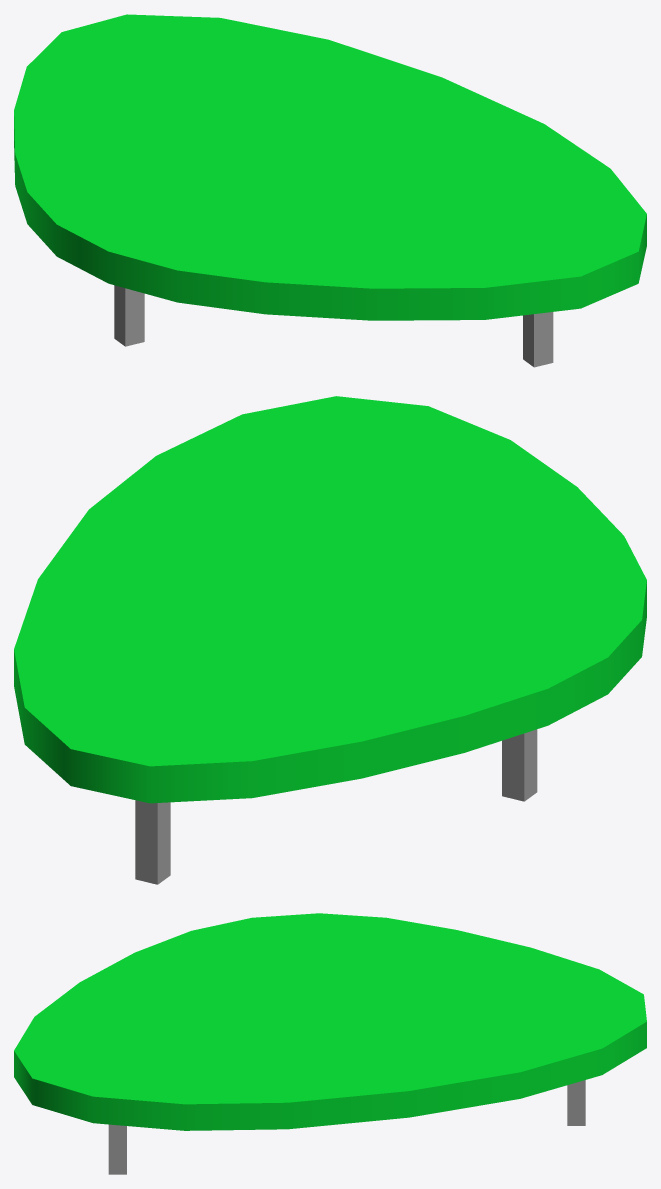
The model's file is table_salon.fbx.
3 renders of one model, top to bottom at view 1: azimuth 30°, elevation 25°; view 2: azimuth 150°, elevation 25°; view 3: azimuth 270°, elevation 25°, orthographic. The views are drawn at different scales.
Parts seen in each view (by area): view 1: pCylinder17; view 2: pCylinder17; view 3: pCylinder17.
Part boxes in pixels (bbox=[...]): pCylinder17: bbox=[14, 14, 646, 367]; pCylinder17: bbox=[14, 396, 646, 884]; pCylinder17: bbox=[14, 913, 646, 1174].
Size of the model in its own units: 145 by 39.71 by 203.
